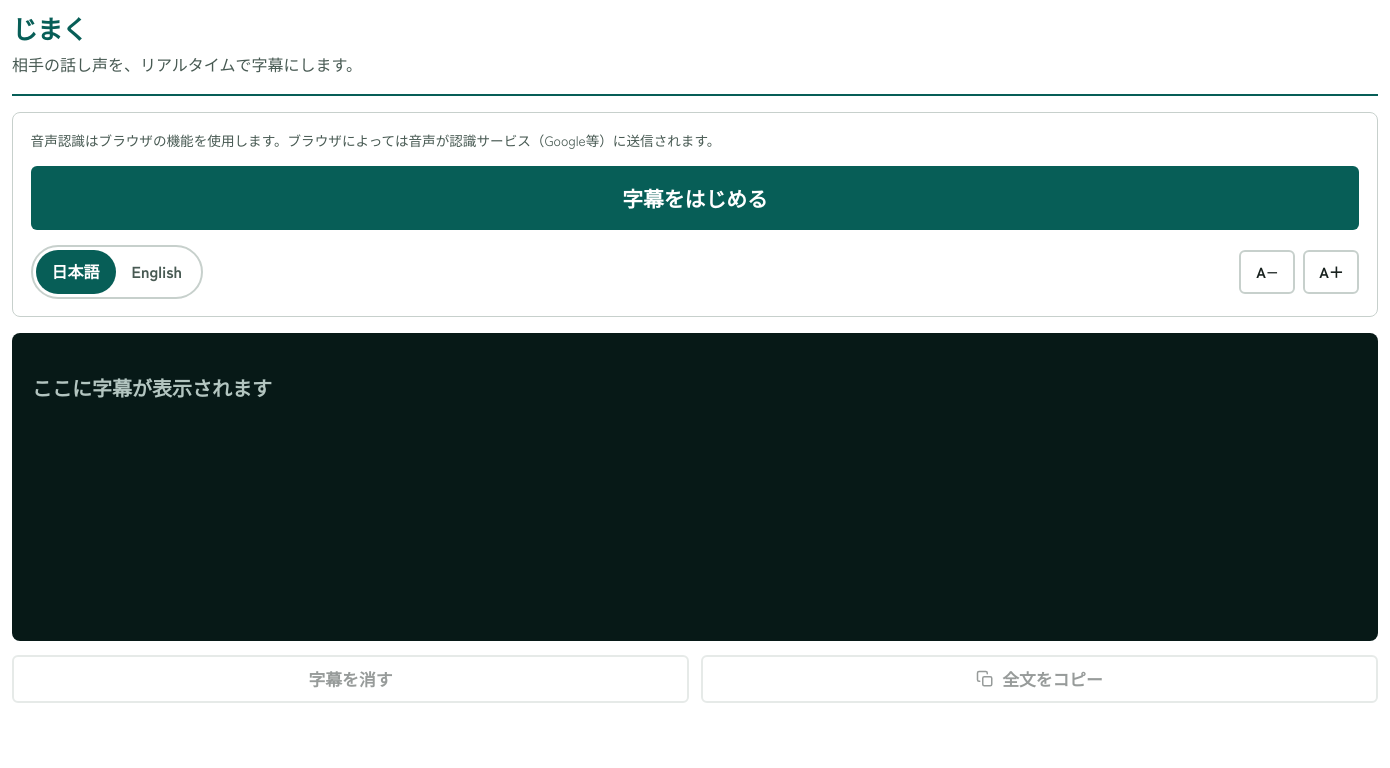
Test case: Captions › explains copy failure without losing captions
The image size is (1390, 768).
Click the button "字幕をはじめる" at (695, 198), box [31,166,1359,230]
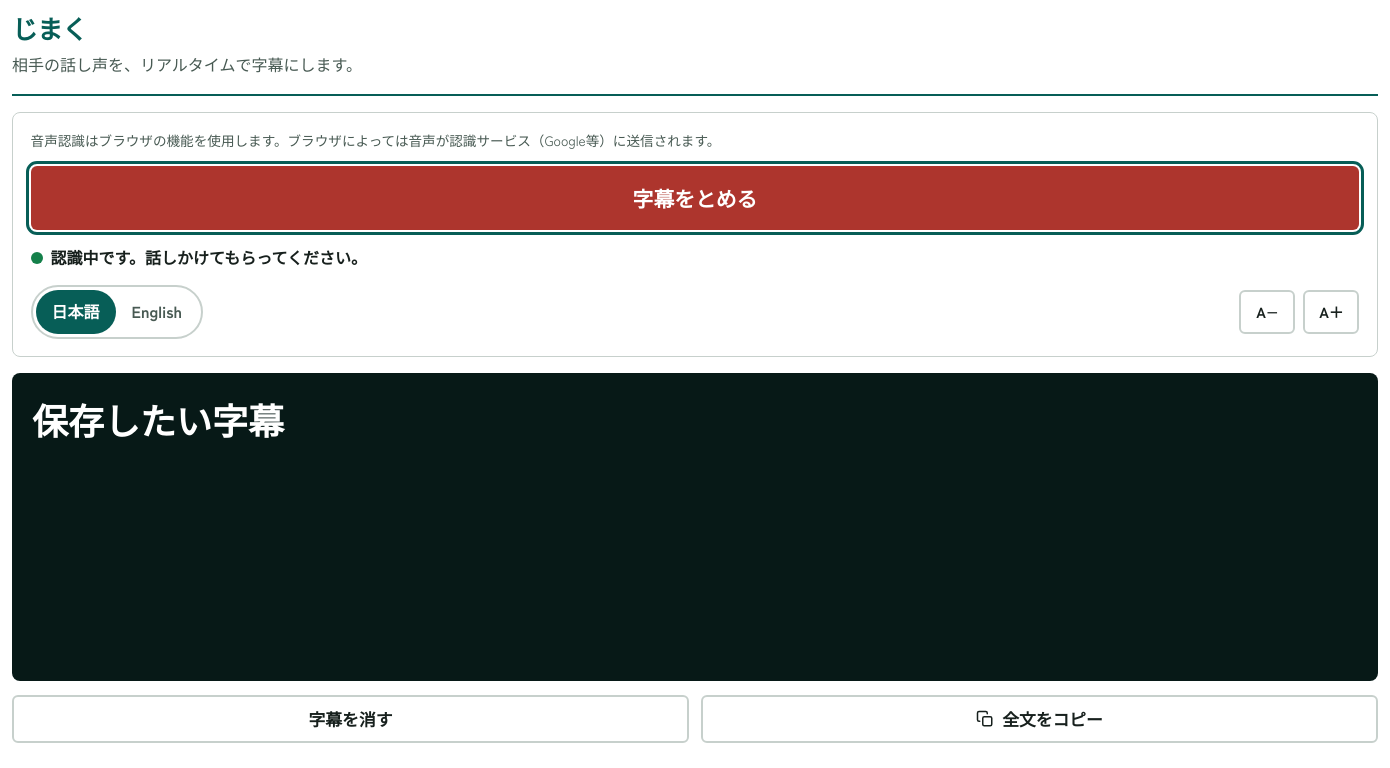
Click the button "全文をコピー" at (1040, 719), box [701,695,1378,743]
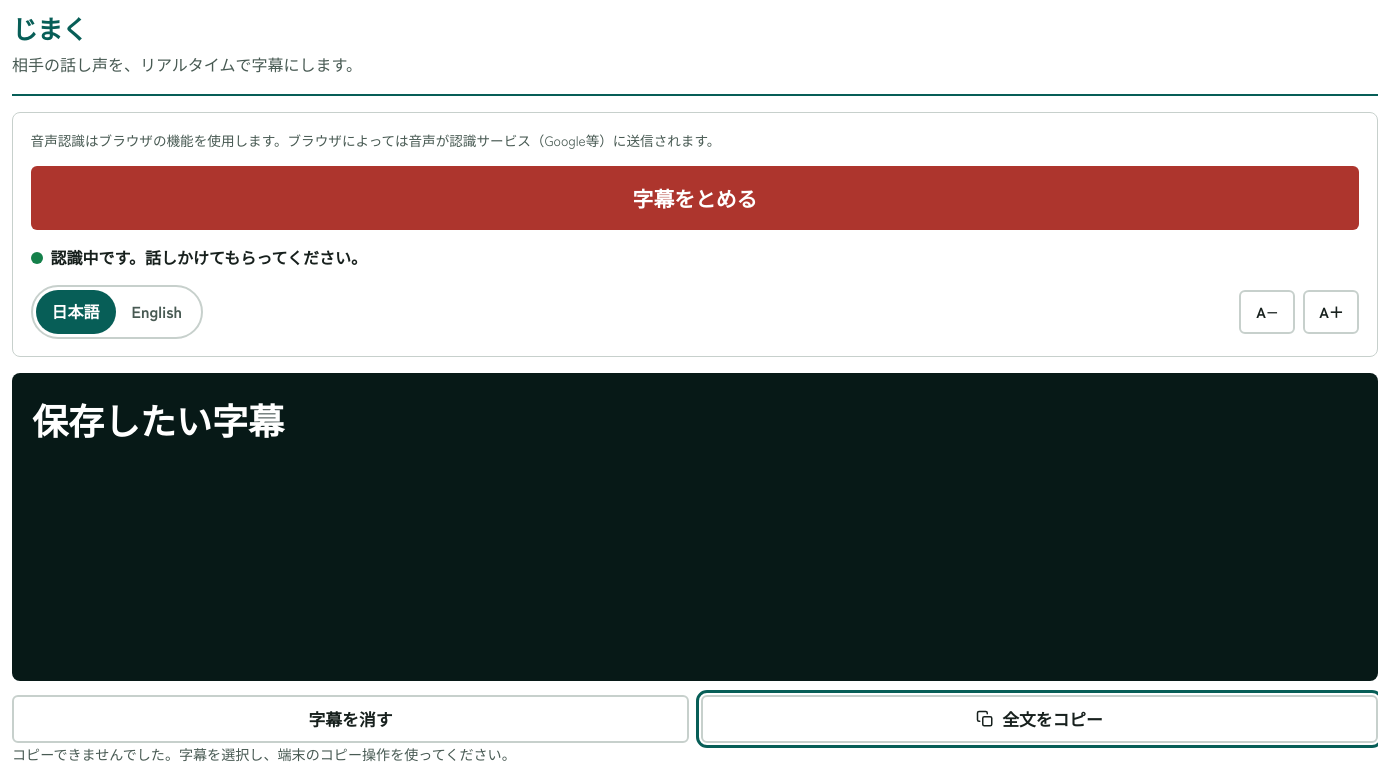
Now the text "保存したい字幕" is shown, box [32,393,284,445]
Now the message shows "コピーできませんでした", box [12,744,516,764]
